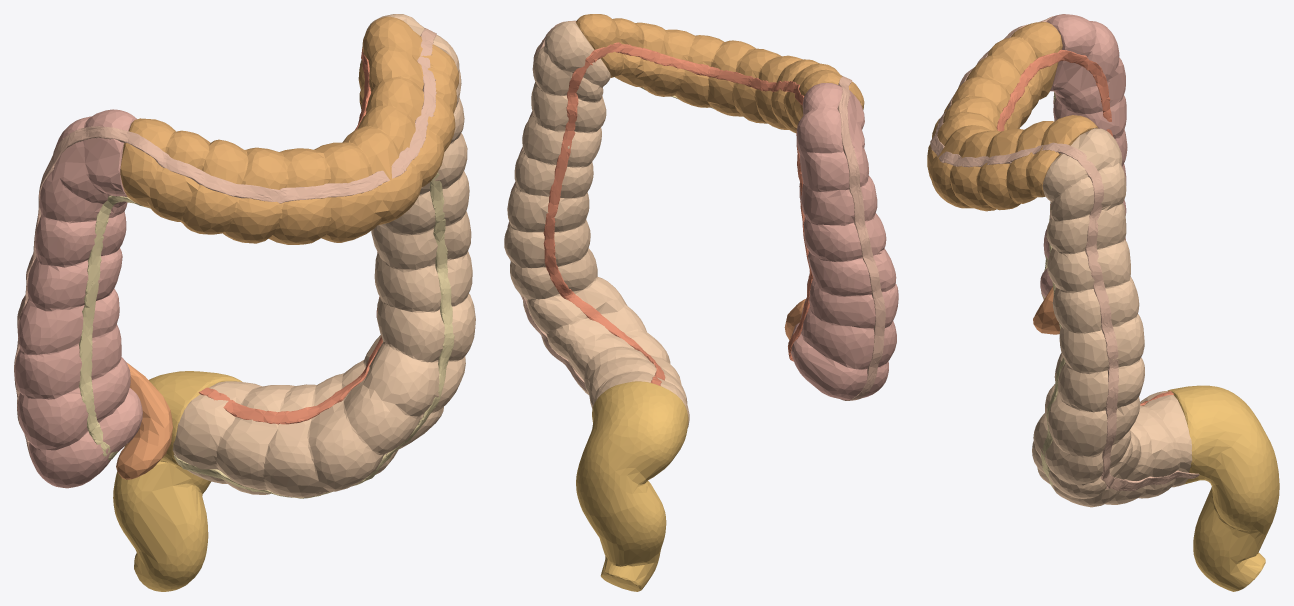
Rendered from intestino_crasso.glb.
The picture shows the model from 3 angles, left to right: view 1: azimuth 30°, elevation 25°; view 2: azimuth 150°, elevation 25°; view 3: azimuth 270°, elevation 25°; orthographic projection. The views are drawn at different scales.
Visible parts, largest first — view 1: descending colon, transverse colon, ascending colon, rectum, taenia omentalis, taenia libera, cecum, taenia mesocolica; view 2: descending colon, ascending colon, rectum, transverse colon, taenia mesocolica, taenia omentalis; view 3: descending colon, transverse colon, rectum, ascending colon, taenia omentalis, taenia mesocolica, cecum, taenia libera.
Boxes of the visible parts, x1=… form: descending colon: x1=172, y1=14, x2=475, y2=497; transverse colon: x1=120, y1=16, x2=458, y2=244; ascending colon: x1=14, y1=109, x2=142, y2=488; rectum: x1=113, y1=371, x2=241, y2=591; taenia omentalis: x1=14, y1=28, x2=436, y2=457; taenia libera: x1=79, y1=172, x2=454, y2=498; cecum: x1=116, y1=362, x2=172, y2=479; taenia mesocolica: x1=198, y1=47, x2=382, y2=424; descending colon: x1=504, y1=21, x2=689, y2=427; ascending colon: x1=791, y1=83, x2=898, y2=399; rectum: x1=576, y1=381, x2=688, y2=591; transverse colon: x1=576, y1=14, x2=864, y2=132; taenia mesocolica: x1=543, y1=42, x2=813, y2=385; taenia omentalis: x1=507, y1=20, x2=885, y2=400; descending colon: x1=1032, y1=128, x2=1192, y2=507; transverse colon: x1=927, y1=22, x2=1097, y2=211; rectum: x1=1167, y1=385, x2=1279, y2=591; ascending colon: x1=1040, y1=14, x2=1127, y2=299; taenia omentalis: x1=930, y1=16, x2=1199, y2=490; taenia mesocolica: x1=996, y1=49, x2=1173, y2=405; cecum: x1=1033, y1=286, x2=1060, y2=334; taenia libera: x1=999, y1=92, x2=1065, y2=493.
Size of the model in its own units: 244 by 307 by 186.
